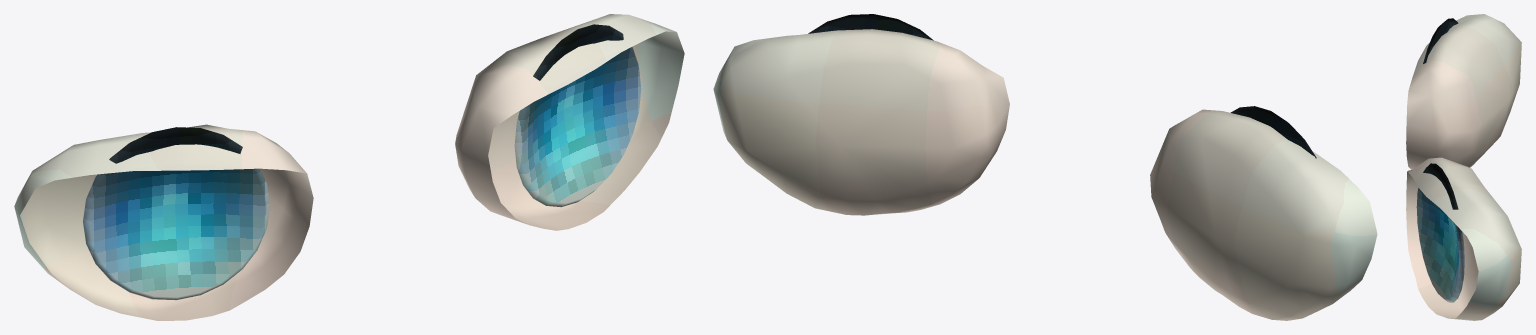
Rendered from Female_Eyes.fbx.
3 renders of one model, left to right at view 1: azimuth 30°, elevation 25°; view 2: azimuth 150°, elevation 25°; view 3: azimuth 270°, elevation 25°, orthographic. The views are drawn at different scales.
Visible parts, largest first — view 1: polySurface2941; view 2: polySurface2941; view 3: polySurface2941.
Part boxes in pixels (x1,y1,x2,y2): polySurface2941: (14,14,684,320); polySurface2941: (713,14,1377,320); polySurface2941: (1406,14,1521,320).
Size of the model in its own units: 1.67 by 0.4642 by 0.3407.
Materials: 1 (1 with a texture image).
